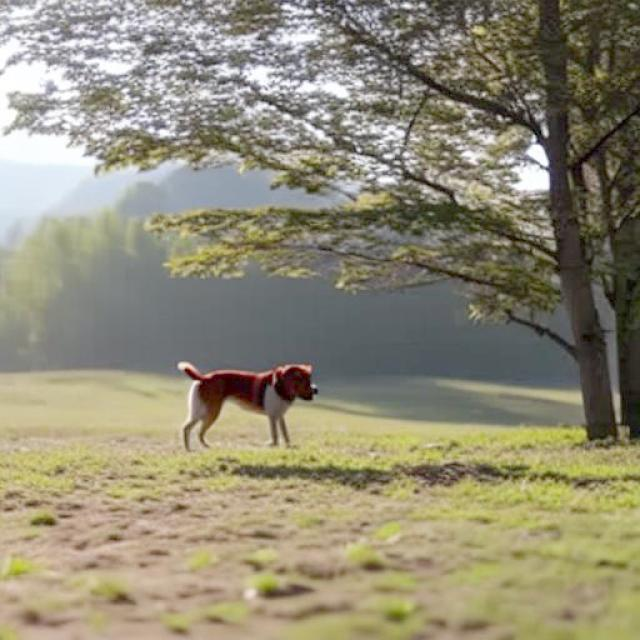Dog: (177, 360, 320, 452)
